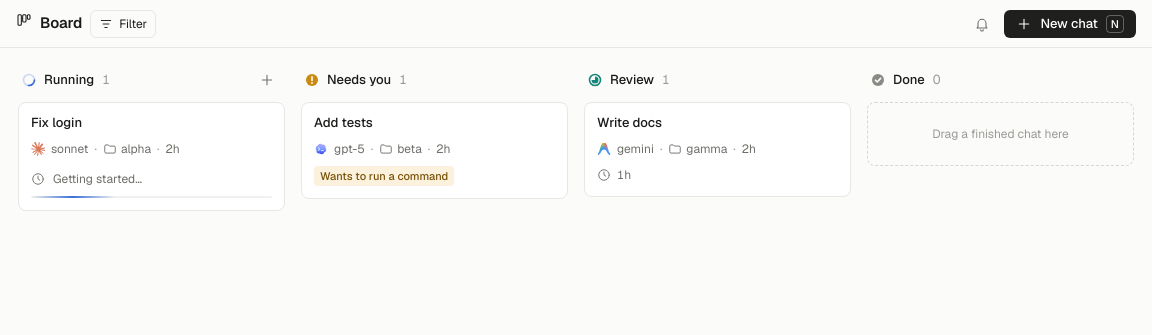
Filter menu › Select all goes back to no filter; unticking one from "all" keeps the rest
Click the button "Filter" at (123, 24), box [90, 10, 156, 38]
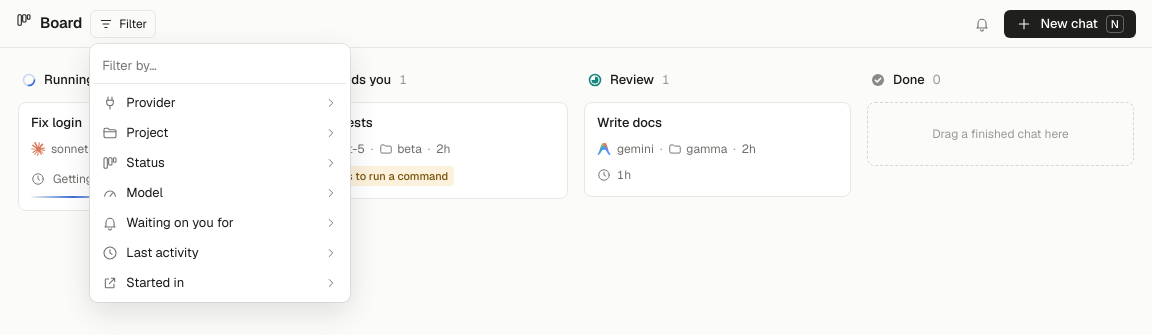
Click the menu item "Status" at (220, 163), box [94, 148, 346, 178]
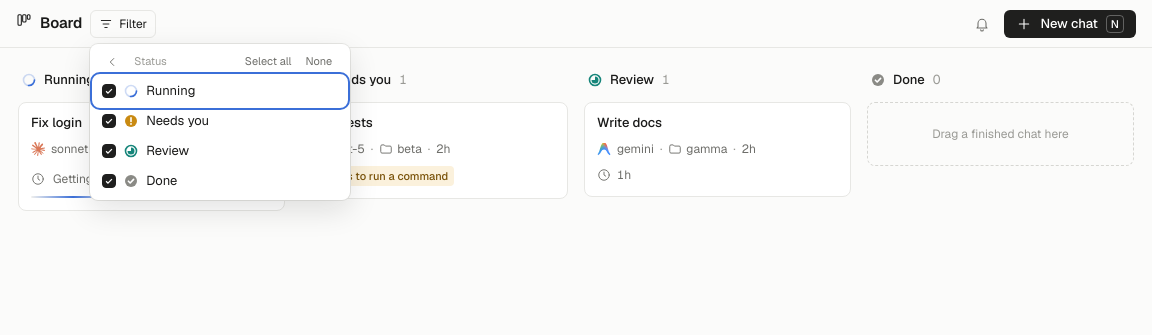
Click the menu item "Done" at (220, 180), box [94, 166, 346, 196]
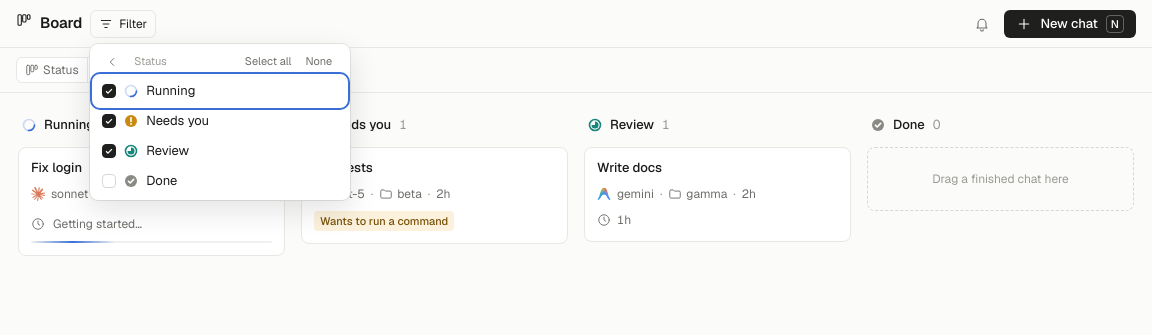
Click the button "Select all" at (268, 62), box [239, 52, 298, 71]
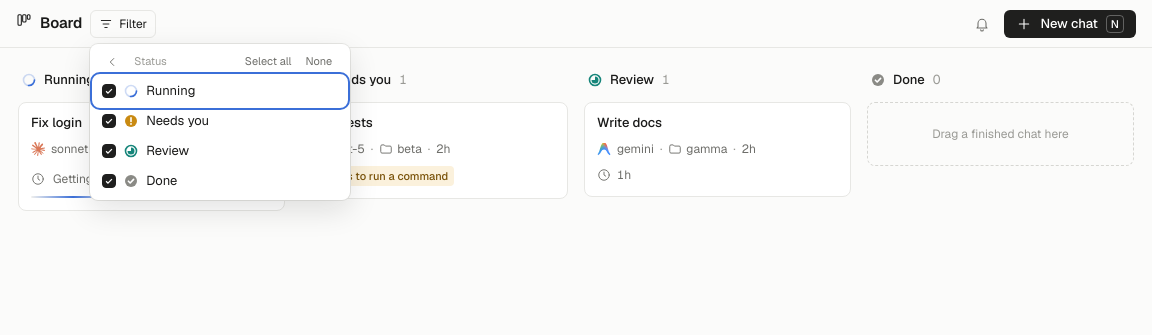
Click the button named "Back" at (112, 62), box [102, 52, 122, 72]
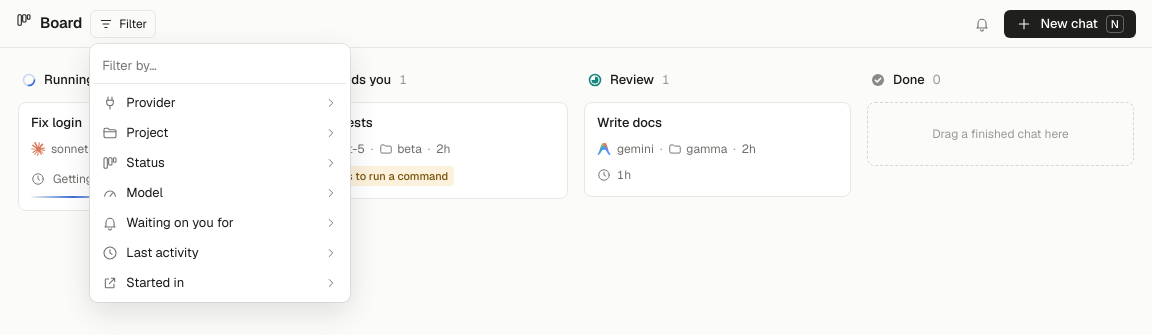
Check: the menu item "Provider" is shown, box [94, 88, 346, 118]
